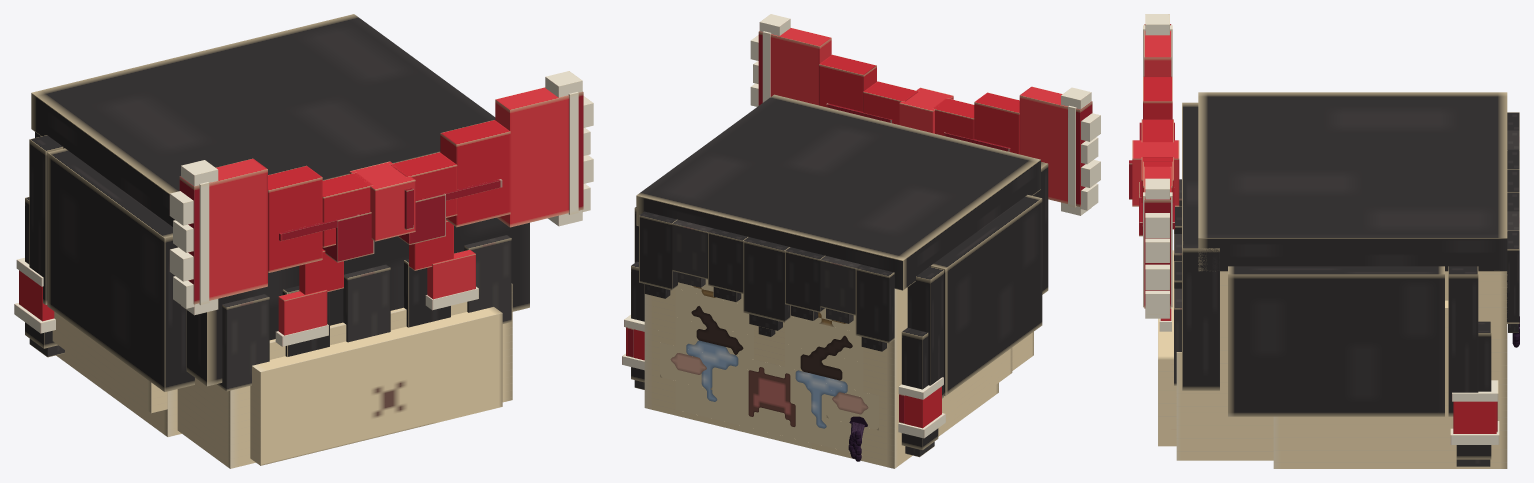
Rendered from body_leak.obj.
The picture shows the model from 3 angles, left to right: view 1: azimuth 30°, elevation 25°; view 2: azimuth 150°, elevation 25°; view 3: azimuth 270°, elevation 25°; orthographic projection. The views are drawn at different scales.
Visible parts, largest first — view 1: body_leak; view 2: body_leak; view 3: body_leak.
Boxes of the visible parts, <box> form: body_leak: <box>14,14,593,468</box>; body_leak: <box>622,14,1100,468</box>; body_leak: <box>1129,14,1519,468</box>.
Size of the model in its own units: 16.28 by 12.24 by 14.51.
1 material, 1 textured.
